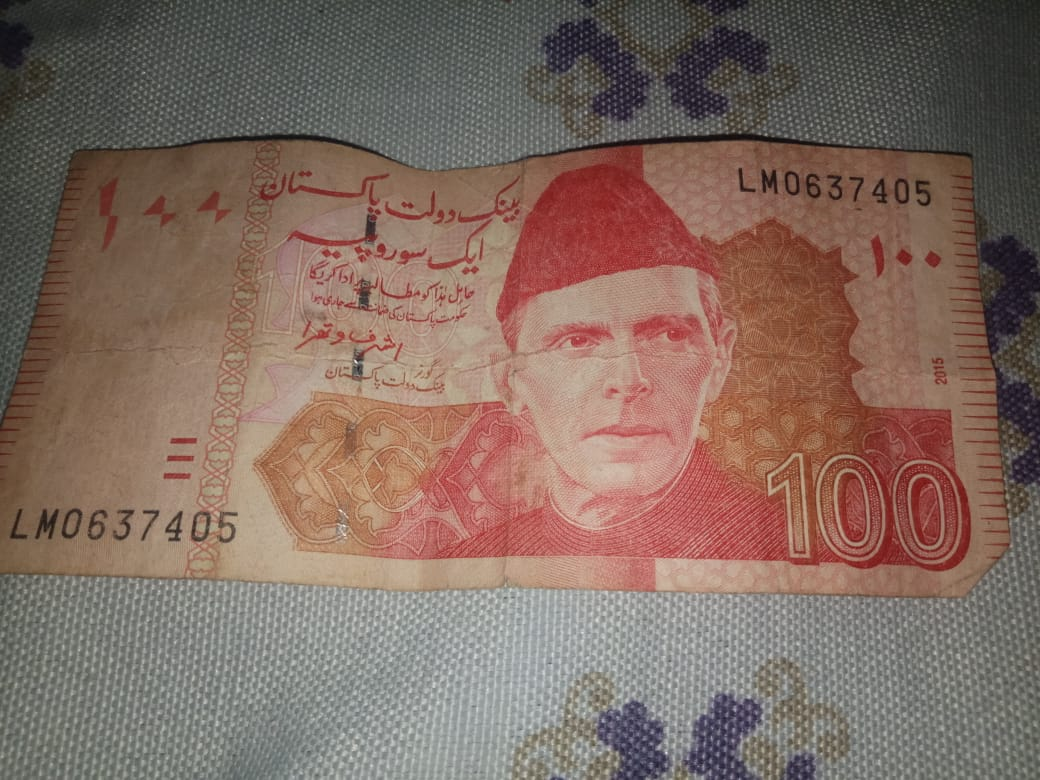100 rupee: (14, 131, 1010, 644)
